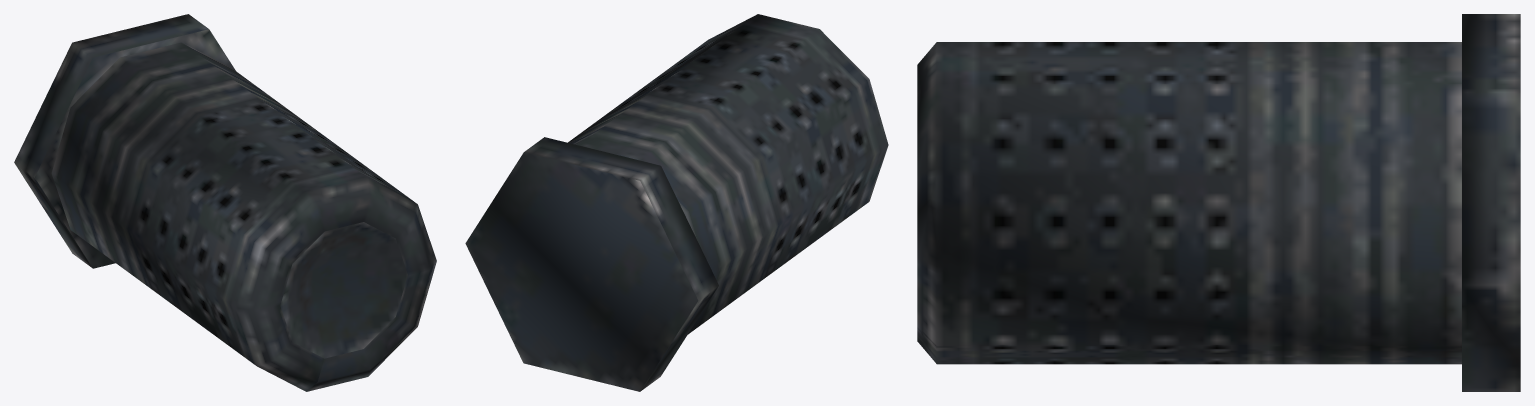
Rendered from Pickup_WeaponZj04.glb.
3 views of the same model, side by side, from view 1: azimuth 30°, elevation 25°; view 2: azimuth 150°, elevation 25°; view 3: azimuth 270°, elevation 25° (orthographic). The views are drawn at different scales.
Parts seen in each view (by area): view 1: pk_weapon_zj04; view 2: pk_weapon_zj04; view 3: pk_weapon_zj04.
Part boxes in pixels (bbox=[...]): pk_weapon_zj04: bbox=[14, 14, 436, 391]; pk_weapon_zj04: bbox=[465, 14, 888, 391]; pk_weapon_zj04: bbox=[917, 14, 1520, 391].
Bounding box in the file's own units: 0.179 × 0.1552 × 0.2845.
1 material, 1 textured.
